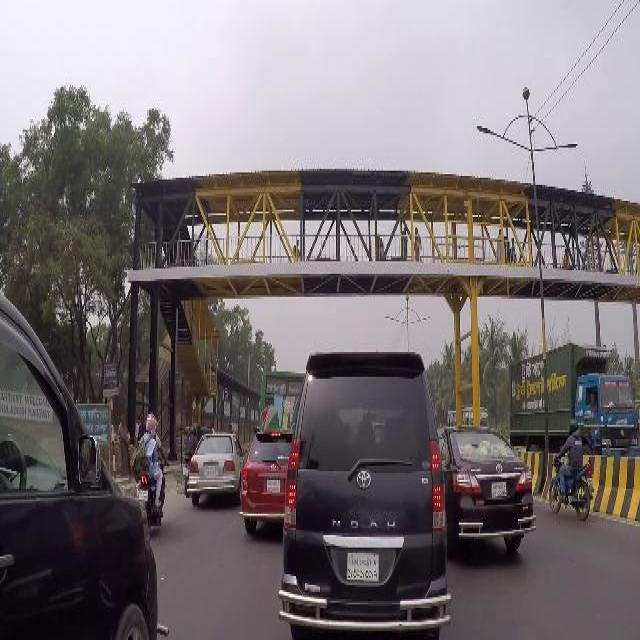10: (548, 457, 594, 521), (131, 464, 165, 532), (180, 444, 198, 502)
18: (506, 341, 636, 448)
5: (438, 418, 536, 556), (238, 423, 294, 537), (186, 426, 242, 509)
9: (2, 283, 168, 638), (280, 347, 450, 638)
Truck: (256, 360, 304, 433), (446, 399, 488, 437)
